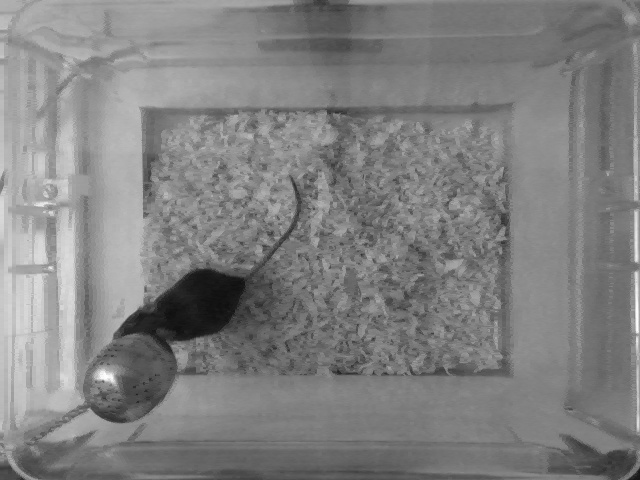mice: (108, 172, 304, 346)
